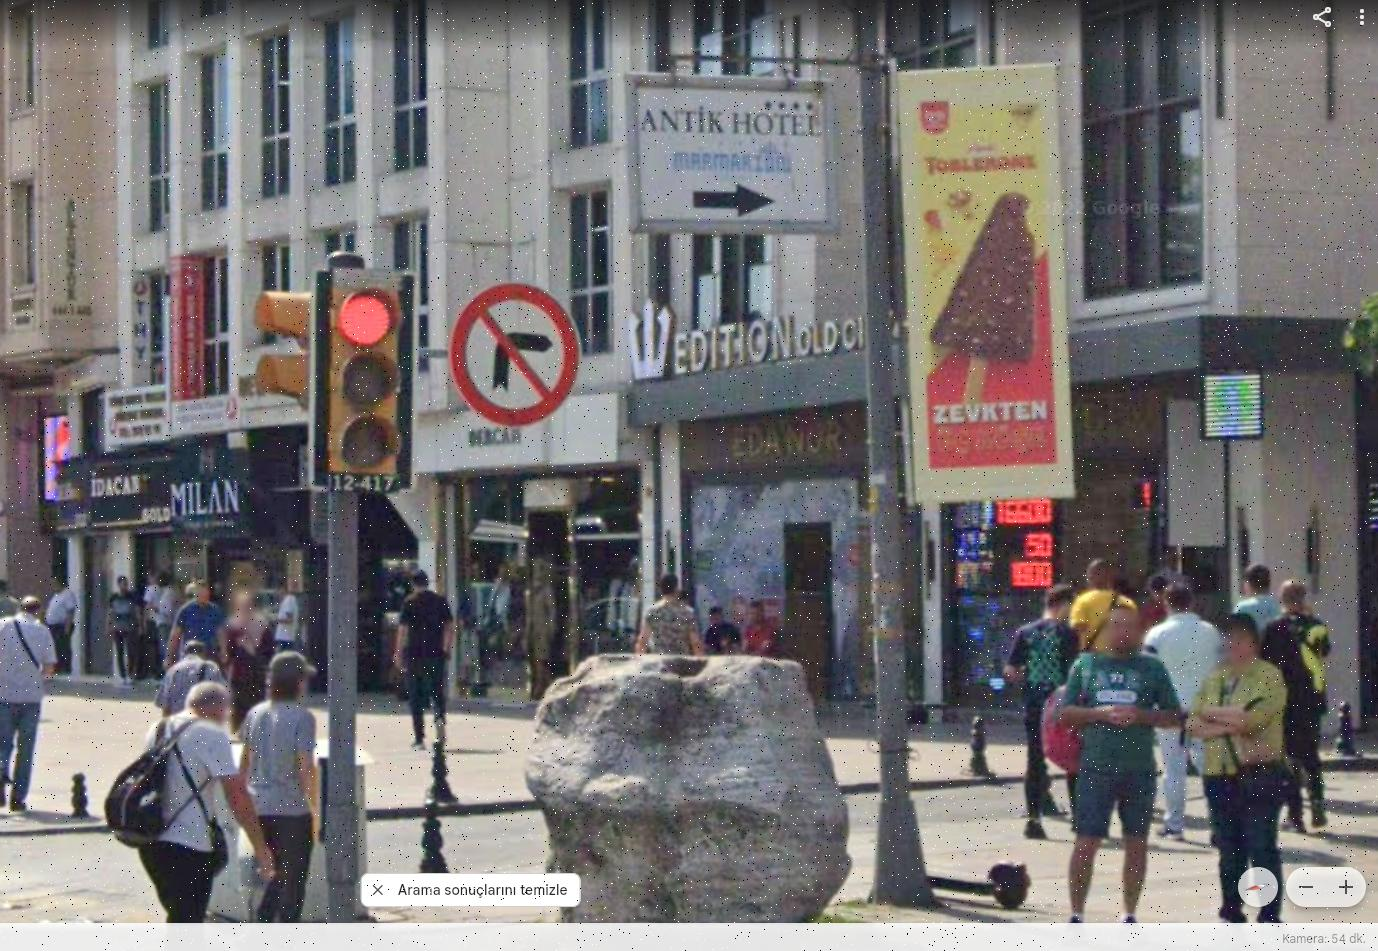redlight: (325, 263, 413, 471)
rightturnsareforbidden: (451, 284, 581, 421)
